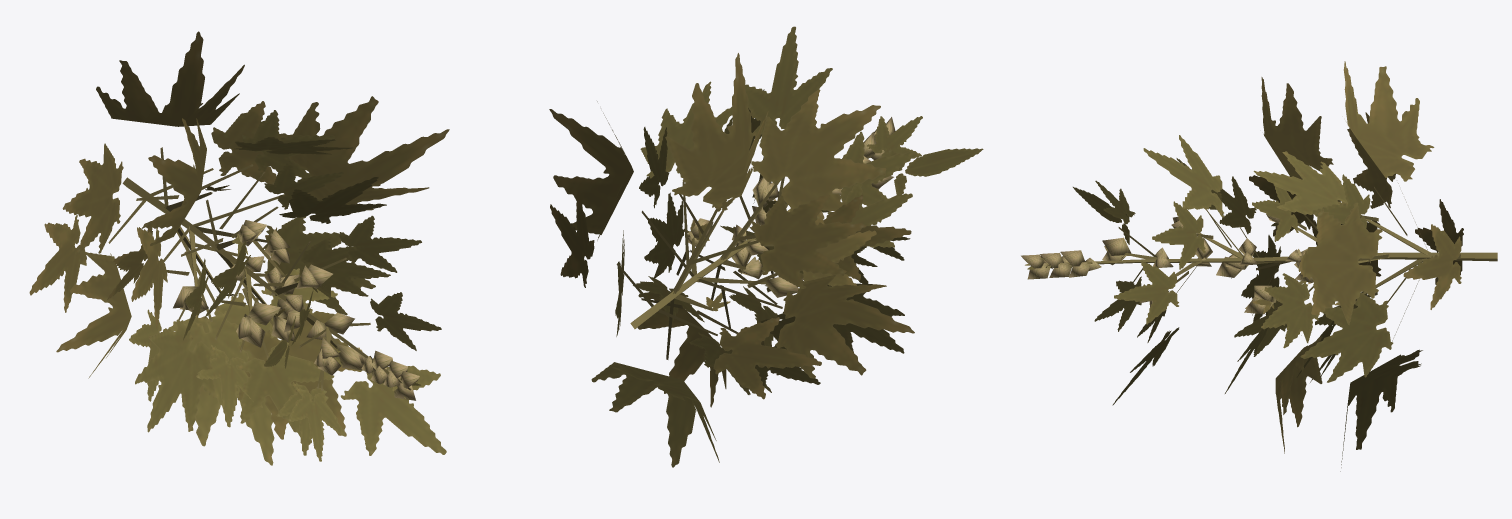
File: p_male_hybrid_ripe_c2_cards.obj
3 views of the same model, side by side, from view 1: azimuth 30°, elevation 25°; view 2: azimuth 150°, elevation 25°; view 3: azimuth 270°, elevation 25° (orthographic). The views are drawn at different scales.
Bounding box in the file's own units: 1.59 × 1.7 × 1.74.
Materials: 1 (1 with a texture image).
